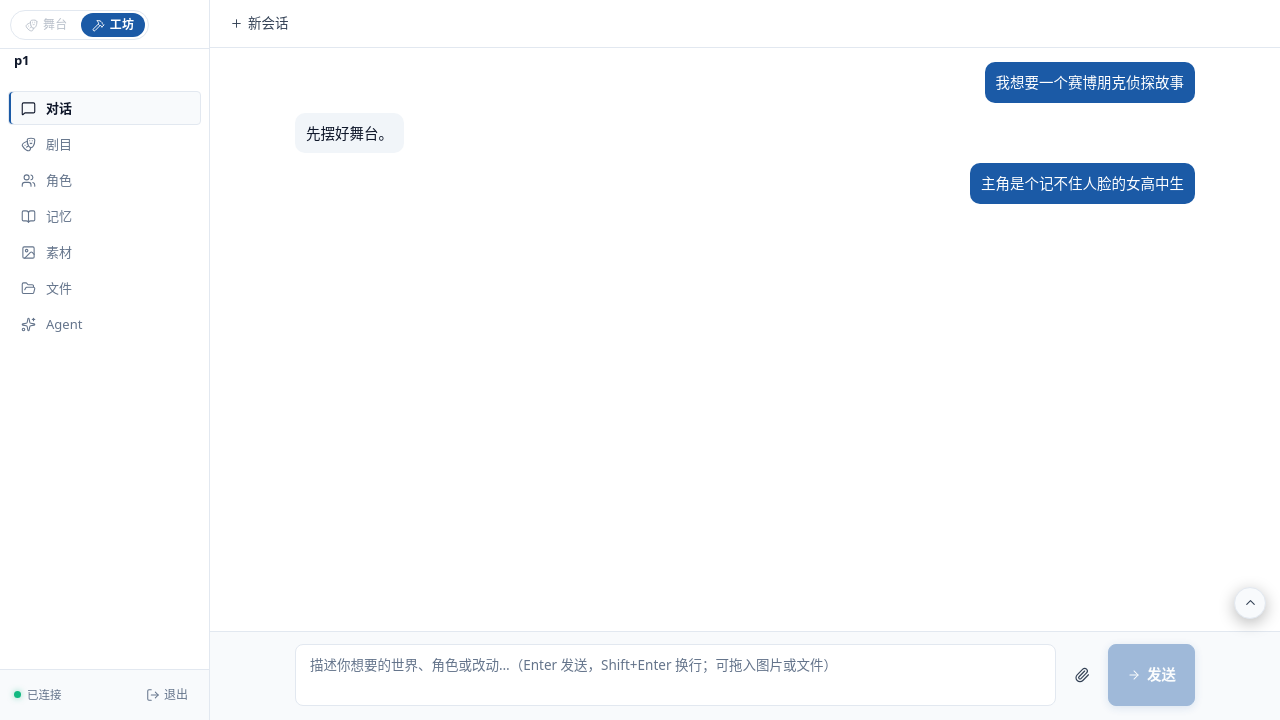
Scenario: 工坊对话页：贴底跟随与回到顶部 › 自己发的话一定看得见：翻上去过也吸回底部
(page scrolled)
Type "再加一个雨夜的车站" into the text box with placeholder "描述你想要的世界、角色或改动…（Enter 发送，Shift+Enter 换行；可拖入图片或文件）" at (676, 675), box [295, 644, 1056, 706]
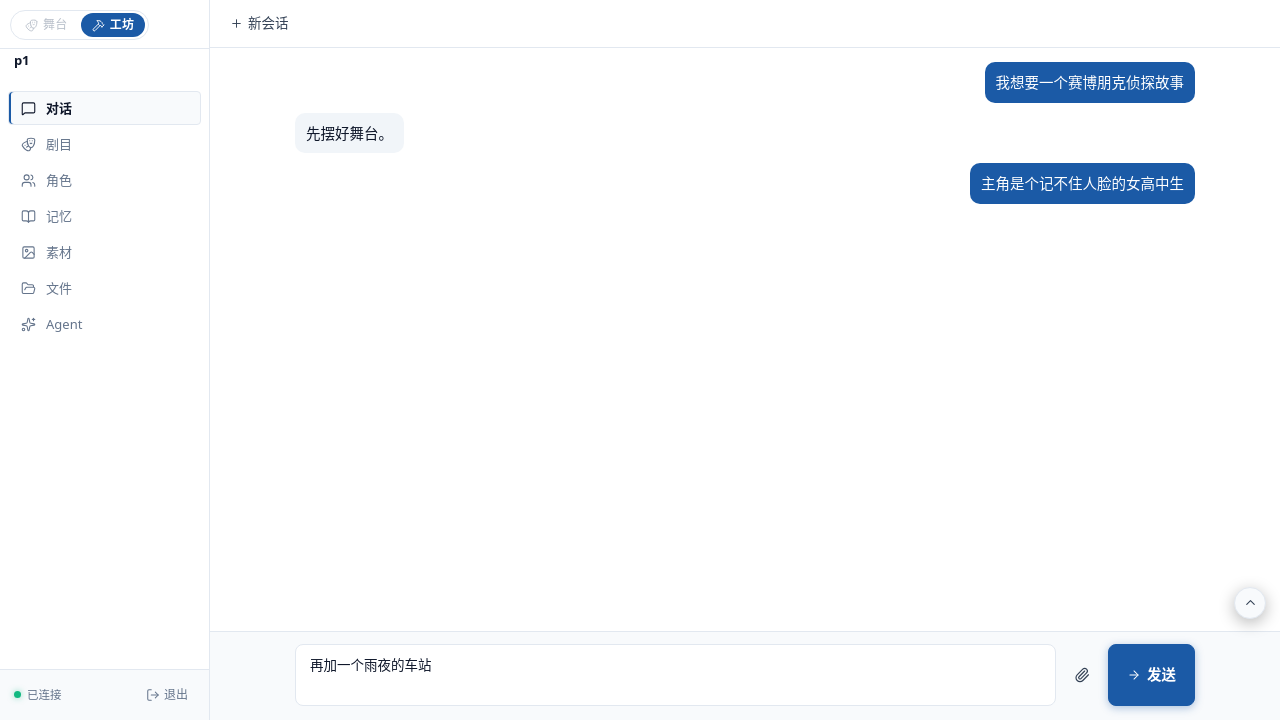
Click the button "发送" at (1152, 675), box [1108, 644, 1195, 706]
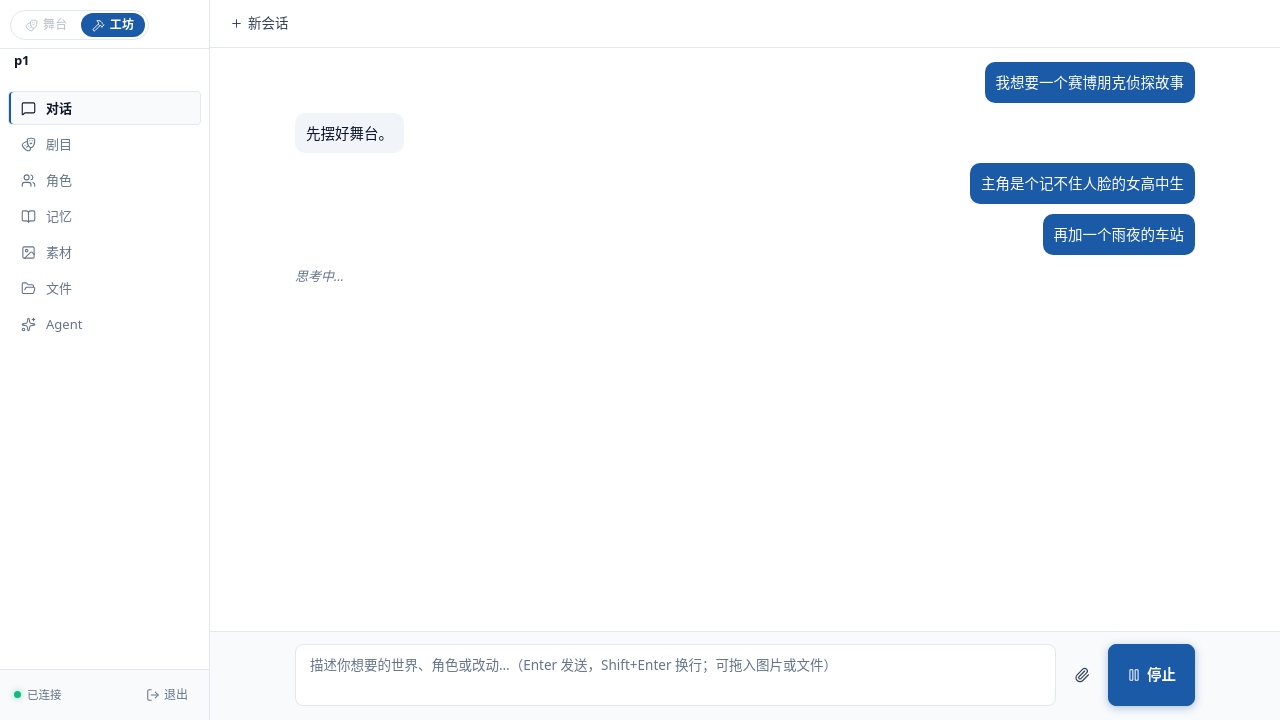
Now the button "回到顶部" is gone
